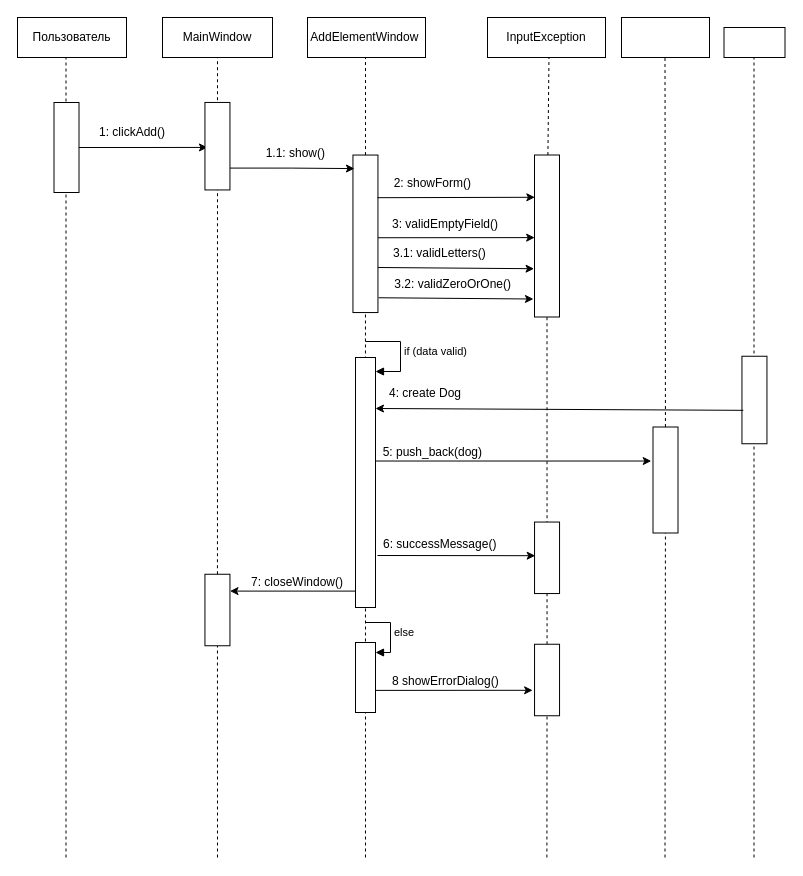
Some shapes in this 803 by 876 pixel diagram are drawn without their labels. Here are the shapes that lost their labels. From the top down, the centre of each, then its label:
(665,37): DogList
(754,42): Dog
